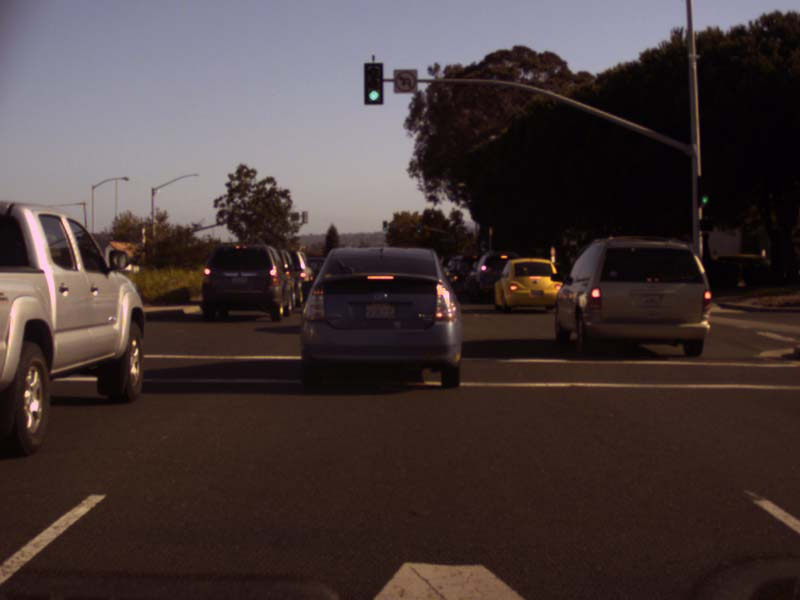Green: (362, 64, 382, 104), (697, 176, 711, 208)
